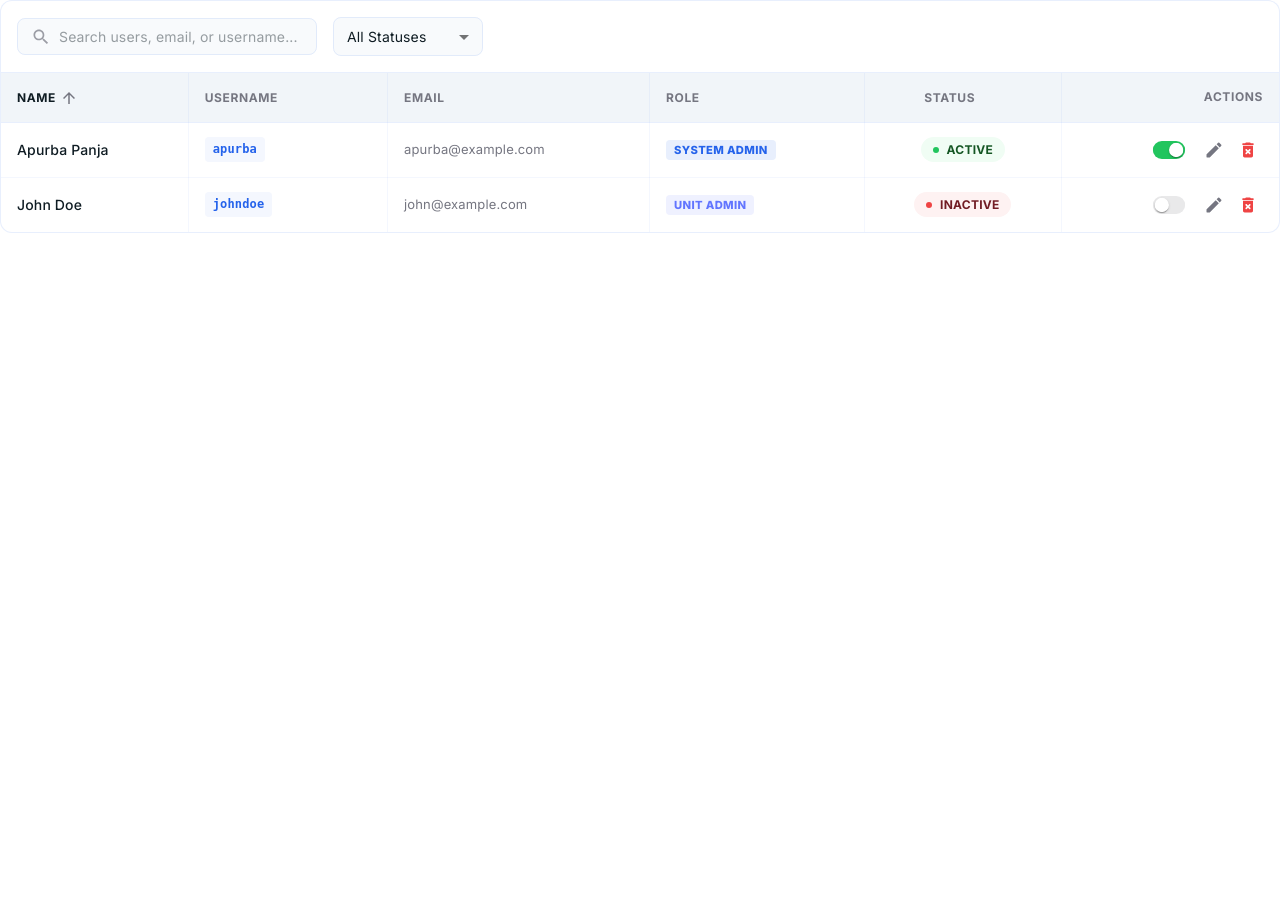
it: UsersTable › opens confirmation modal when status switch is clicked
Click the 1st switch. click: (1176, 150)
box: [1169,142,1183,157]
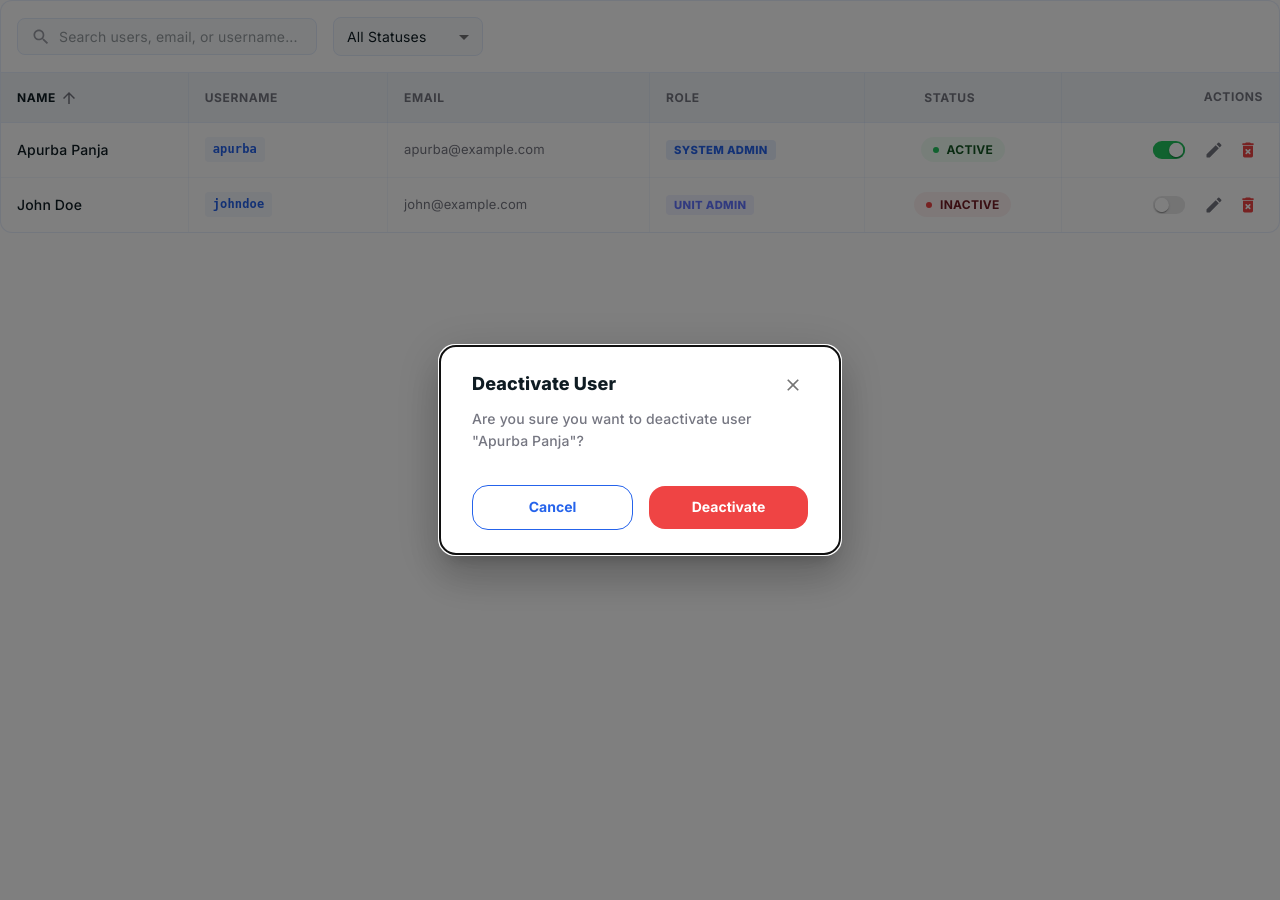
Expected: the text "Are you sure you want to deactivate user \"Apurba Panja\"?" is shown, [472,410,752,449]
Expected: the button "Deactivate" is shown, [649,486,808,529]
